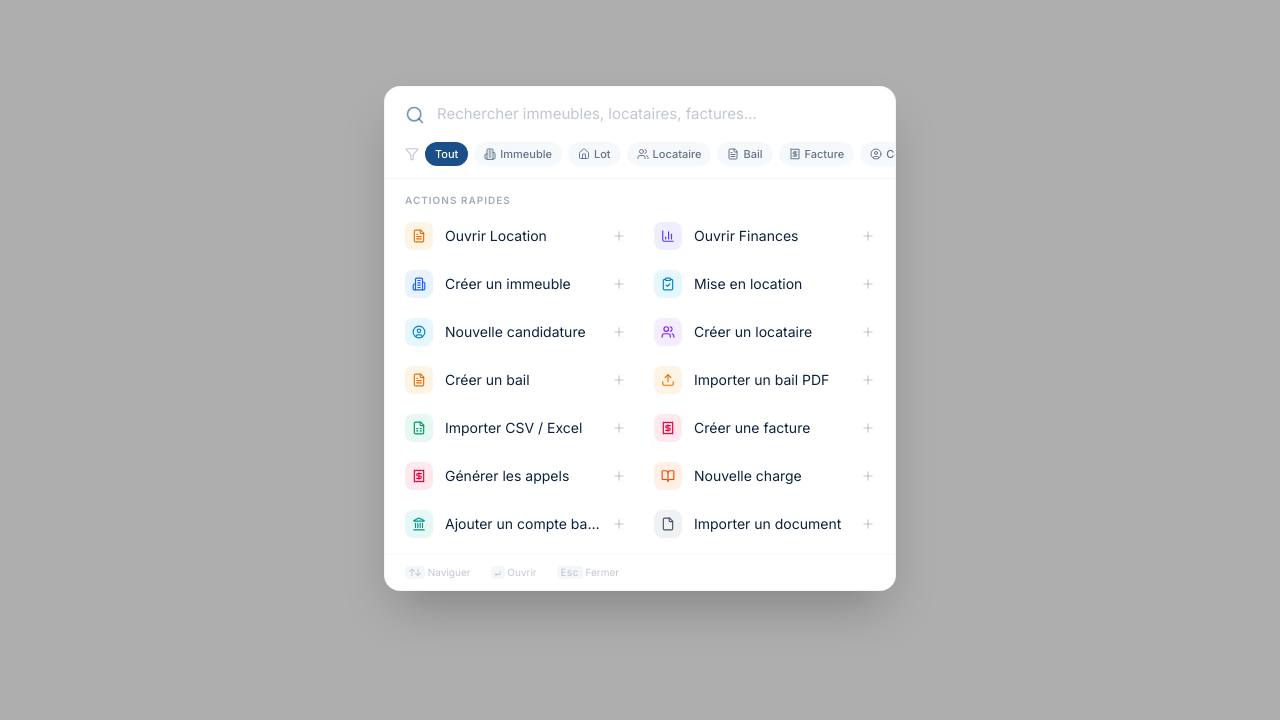
it: GlobalSearch › expose les actions moins fréquentes quand elles correspondent à la recherche
In the field with placeholder "Rechercher immeubles, locataires, factures...": point(656, 115) [437,103,875,126], type "candidature"
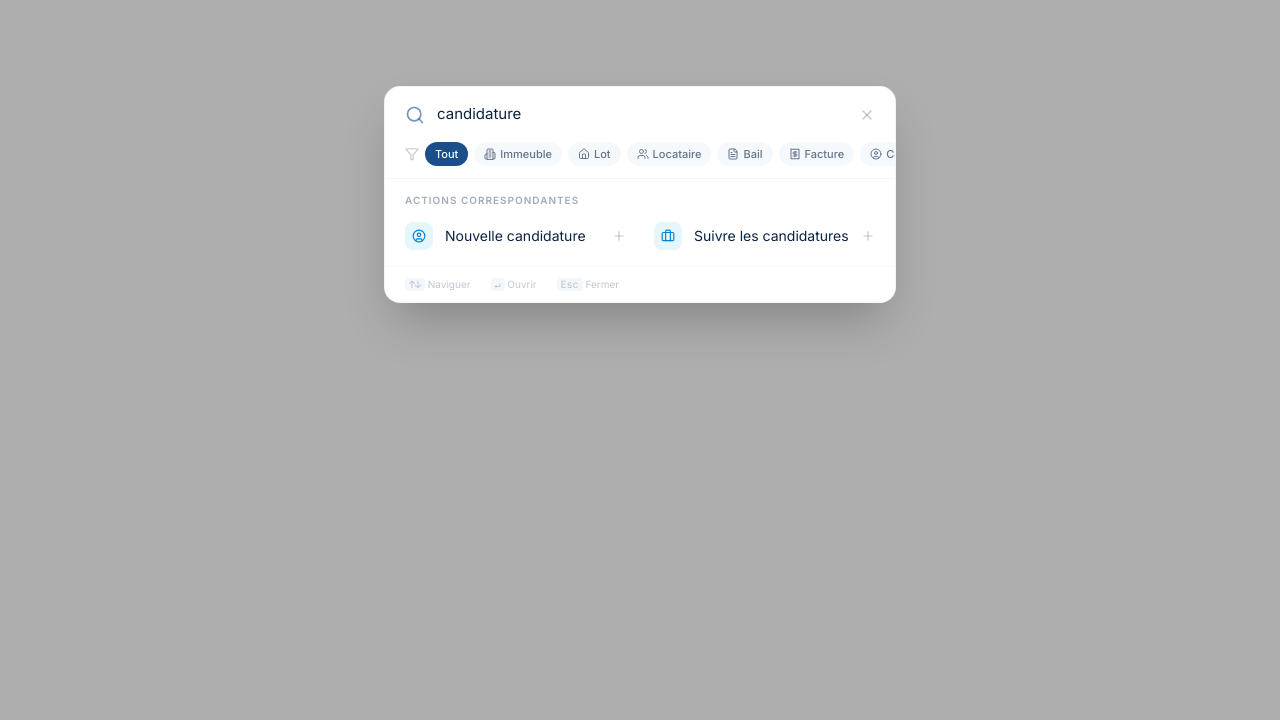
expect the button "Suivre les candidatures" is shown: met, box [642,214,887,258]
